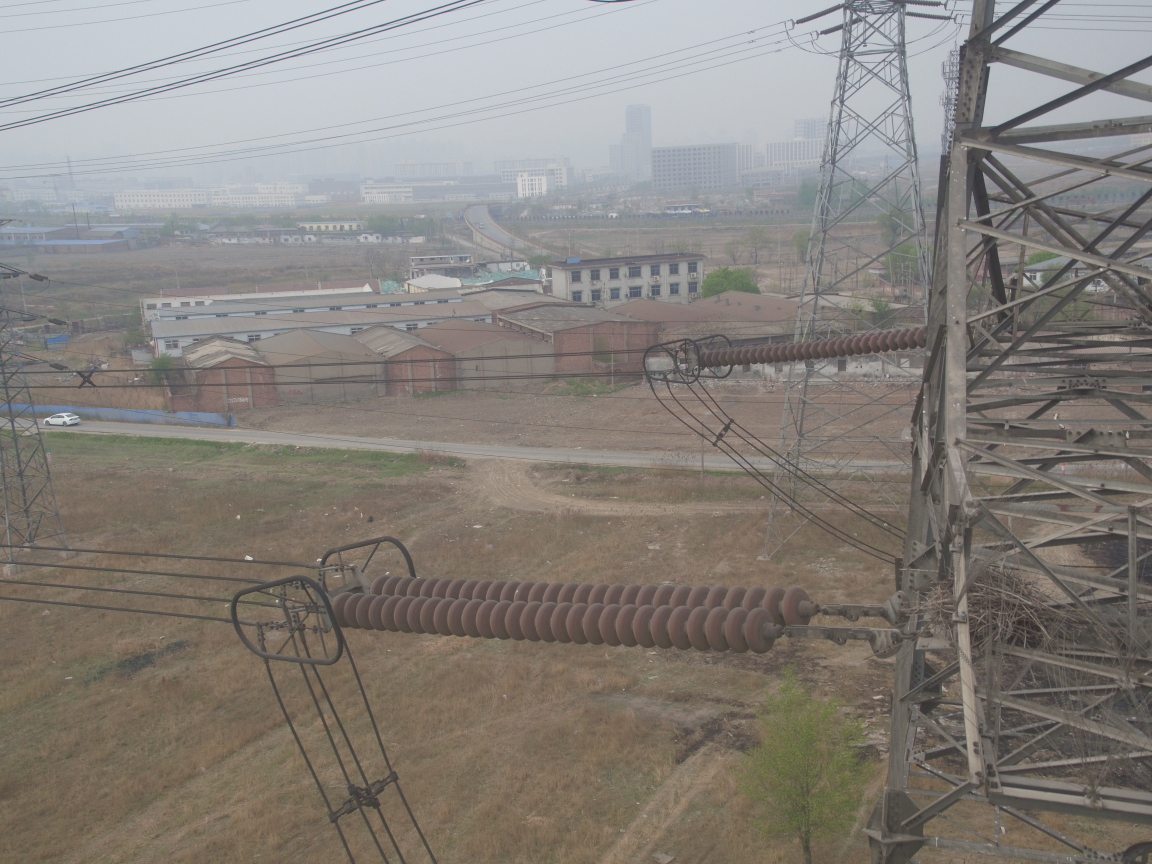insulator: (312, 571, 865, 660), (688, 325, 923, 369)
